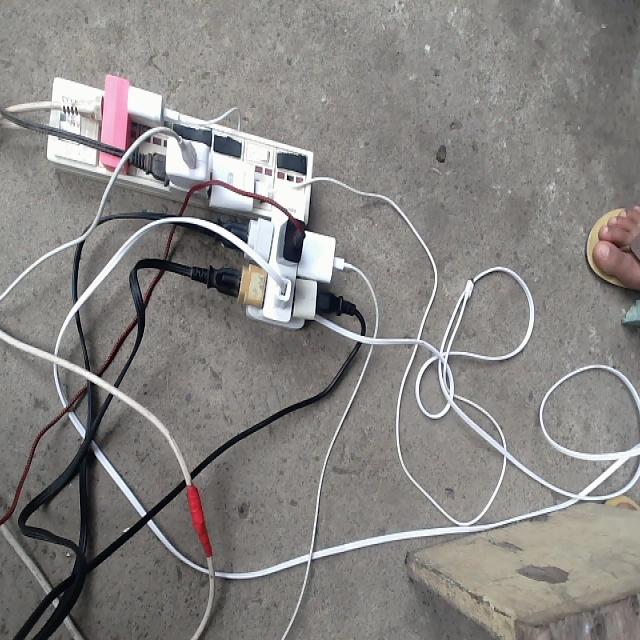-: (33, 46, 393, 373)
